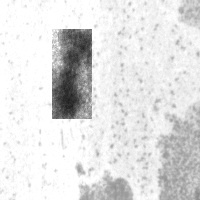patches: (52, 29, 92, 119)
pitted_surface: (76, 1, 153, 173), (155, 104, 200, 198), (77, 176, 138, 200), (168, 1, 200, 30)
